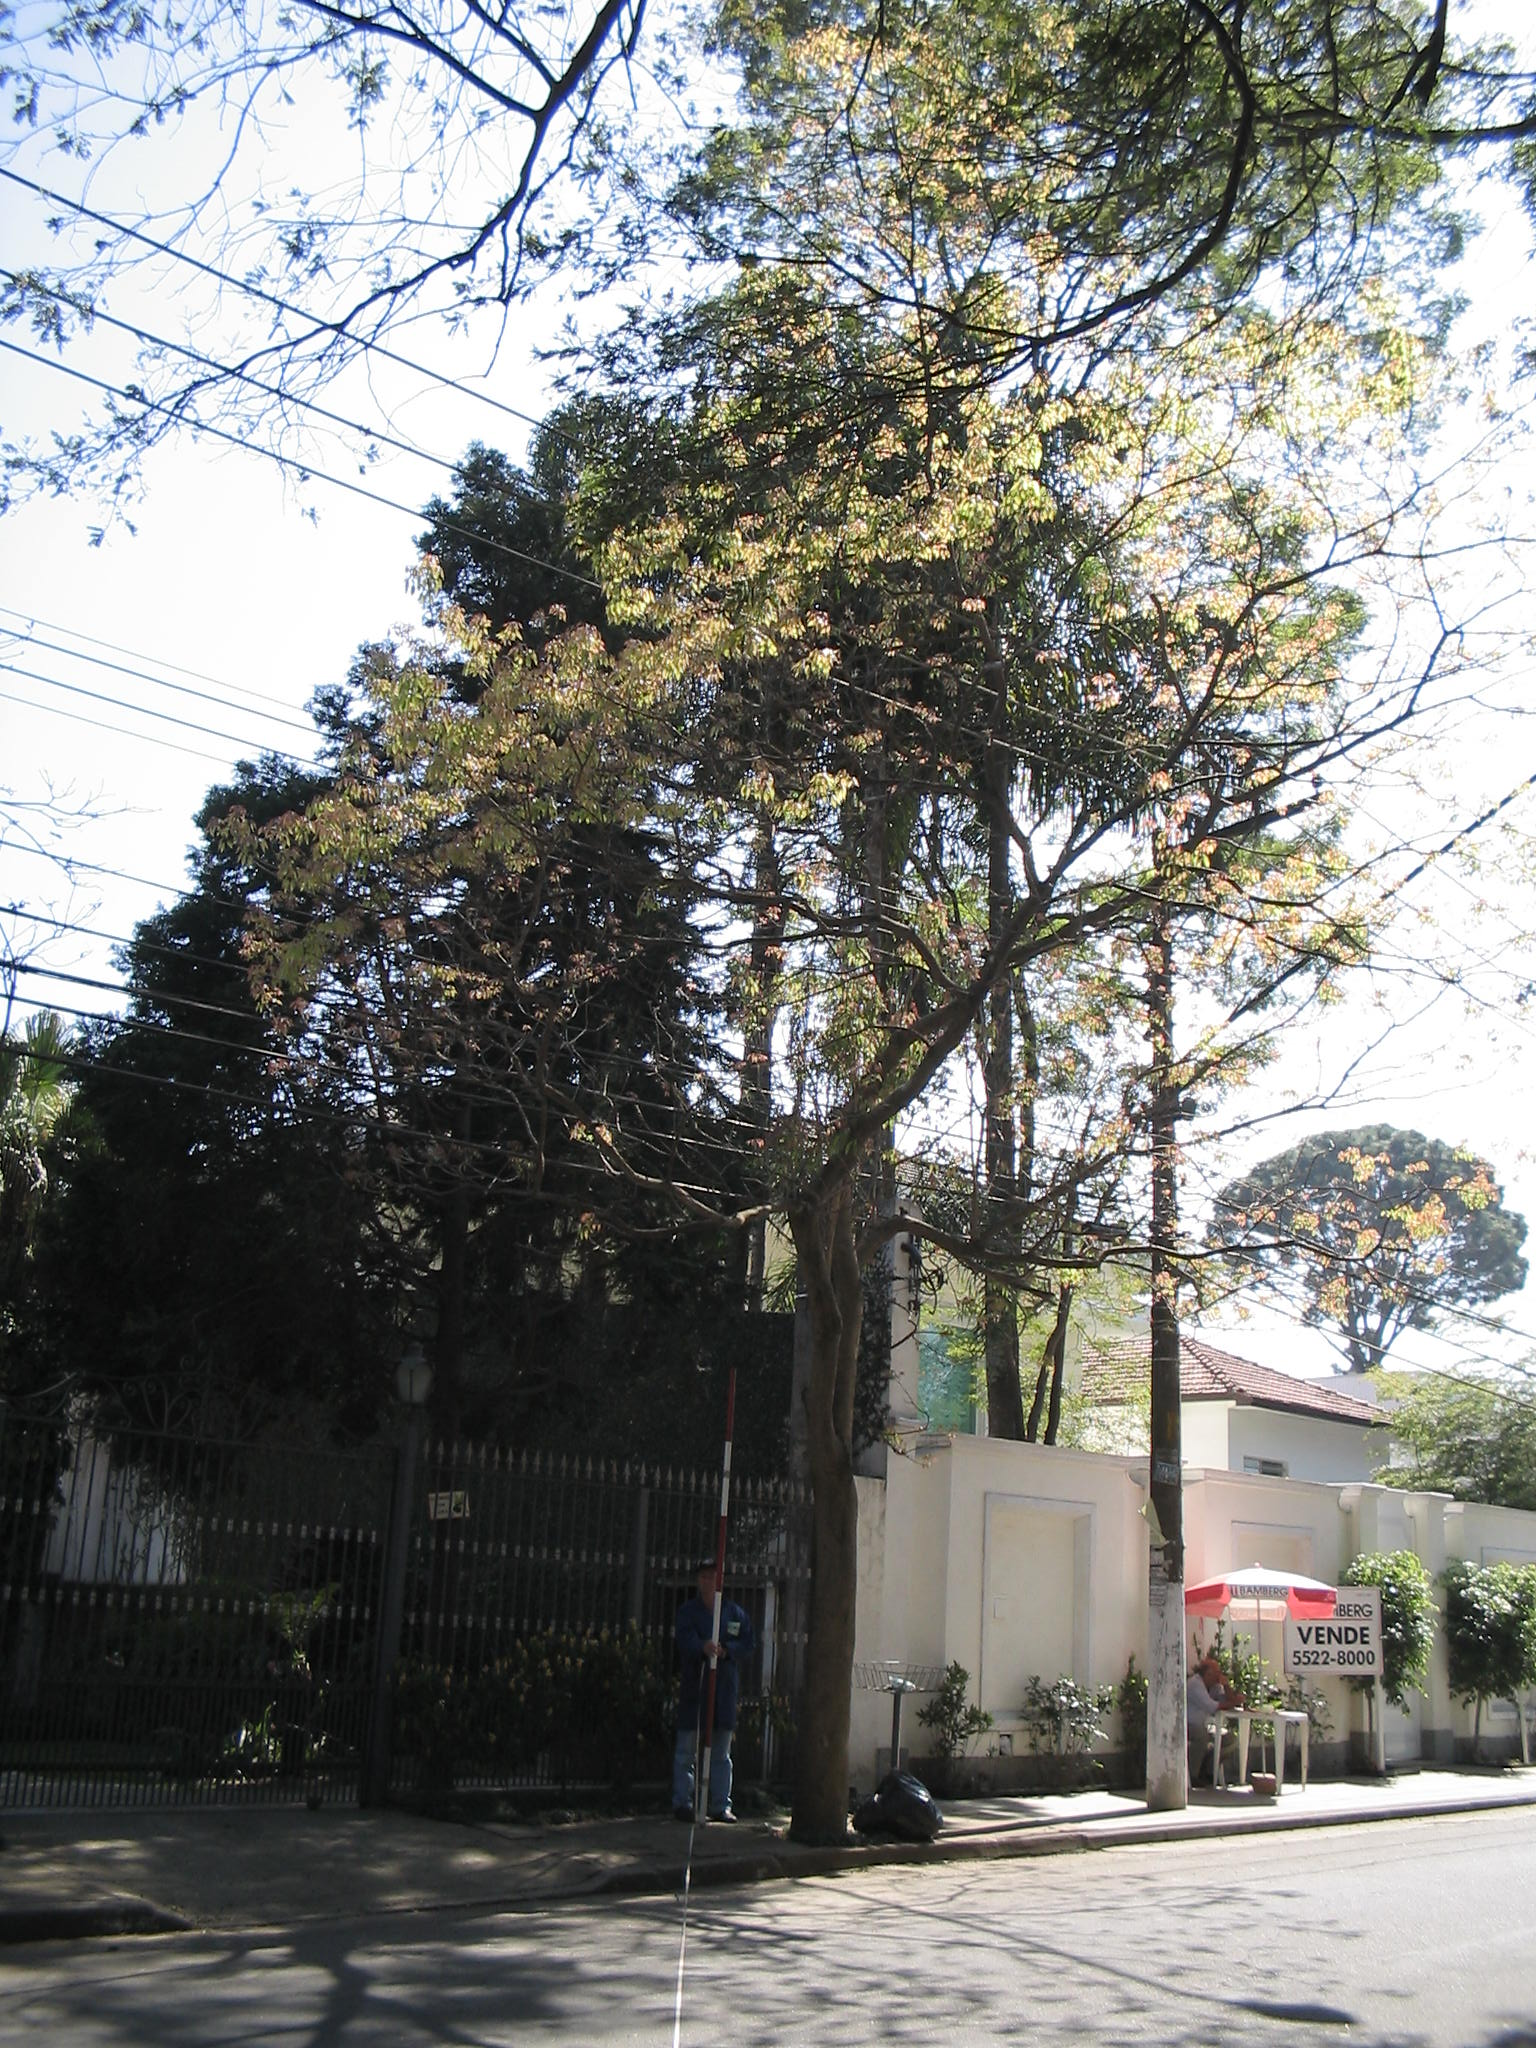crown: (227, 281, 1430, 1322)
stem: (763, 1472, 900, 1848)
stick: (684, 1372, 753, 1822)
tree: (216, 276, 1442, 1846)
